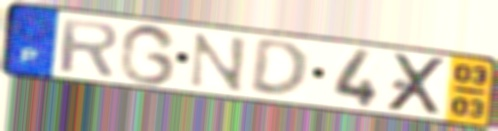4: (330, 46, 383, 109)
D: (246, 38, 312, 100)
G: (116, 22, 180, 87)
N: (185, 31, 250, 95)
R: (58, 15, 121, 79)
X: (383, 51, 452, 117)
